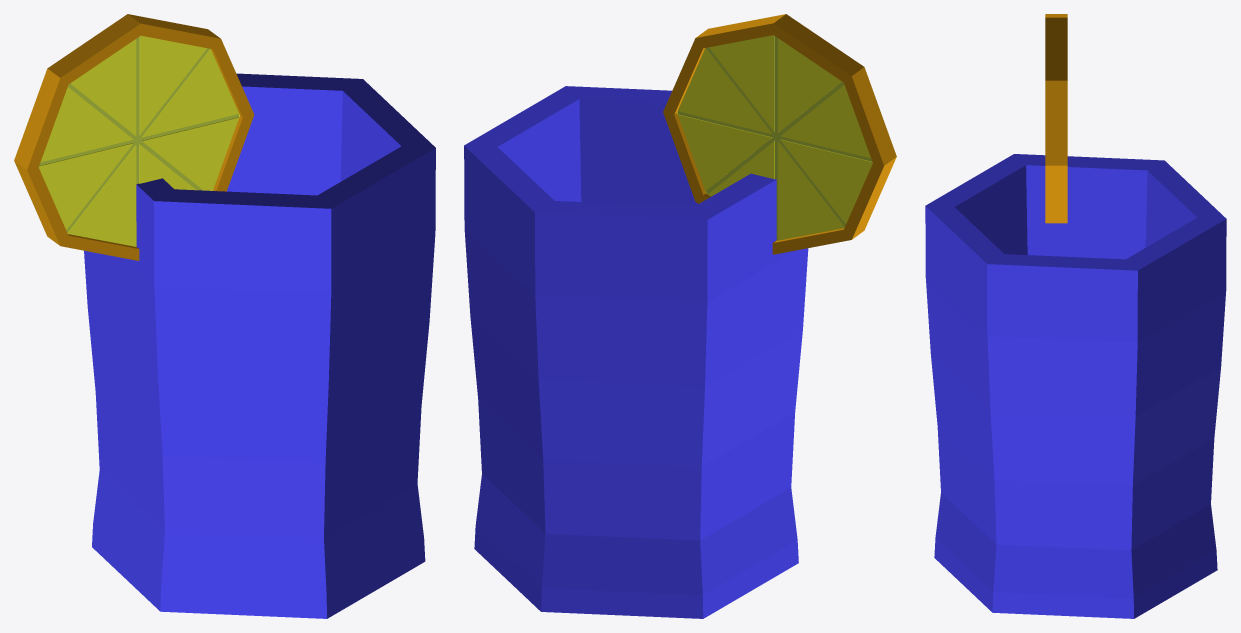
Rendered from Cup 5.fbx.
3 renders of one model, left to right at view 1: azimuth 30°, elevation 25°; view 2: azimuth 150°, elevation 25°; view 3: azimuth 270°, elevation 25°, orthographic. The views are drawn at different scales.
Parts seen in each view (by area): view 1: Node 0; view 2: Node 0; view 3: Node 0.
Boxes of the visible parts, box(x1,y1,x2,y2) form: Node 0: box(14, 14, 435, 618); Node 0: box(464, 14, 896, 618); Node 0: box(925, 14, 1226, 618).
Bounding box in the file's own units: 0.1041 × 0.1868 × 0.1323.
